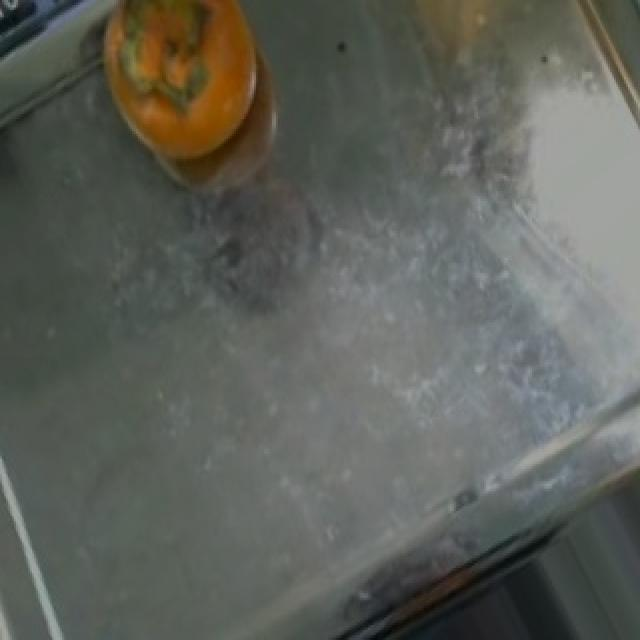Fruit: (74, 0, 284, 181)
